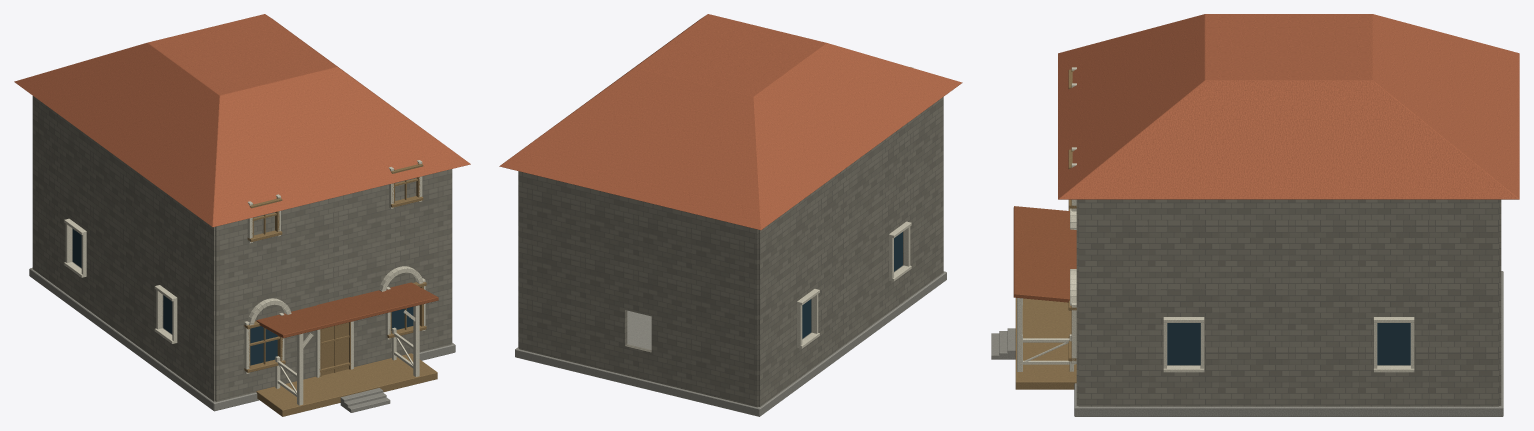
File: WINNERY2_lod1.glb
3 views of the same model, side by side, from view 1: azimuth 30°, elevation 25°; view 2: azimuth 150°, elevation 25°; view 3: azimuth 270°, elevation 25° (orthographic). The views are drawn at different scales.
Parts seen in each view (by area): view 1: WINNERY2_LOD1; view 2: WINNERY2_LOD1; view 3: WINNERY2_LOD1.
Boxes of the visible parts, left/top/right/bottom form: WINNERY2_LOD1: left=14, top=14, right=470, bottom=416; WINNERY2_LOD1: left=499, top=14, right=962, bottom=416; WINNERY2_LOD1: left=991, top=14, right=1519, bottom=416.
Bounding box in the file's own units: 9.88 × 9.5 × 15.09.
Materials: 8 (6 with a texture image).
